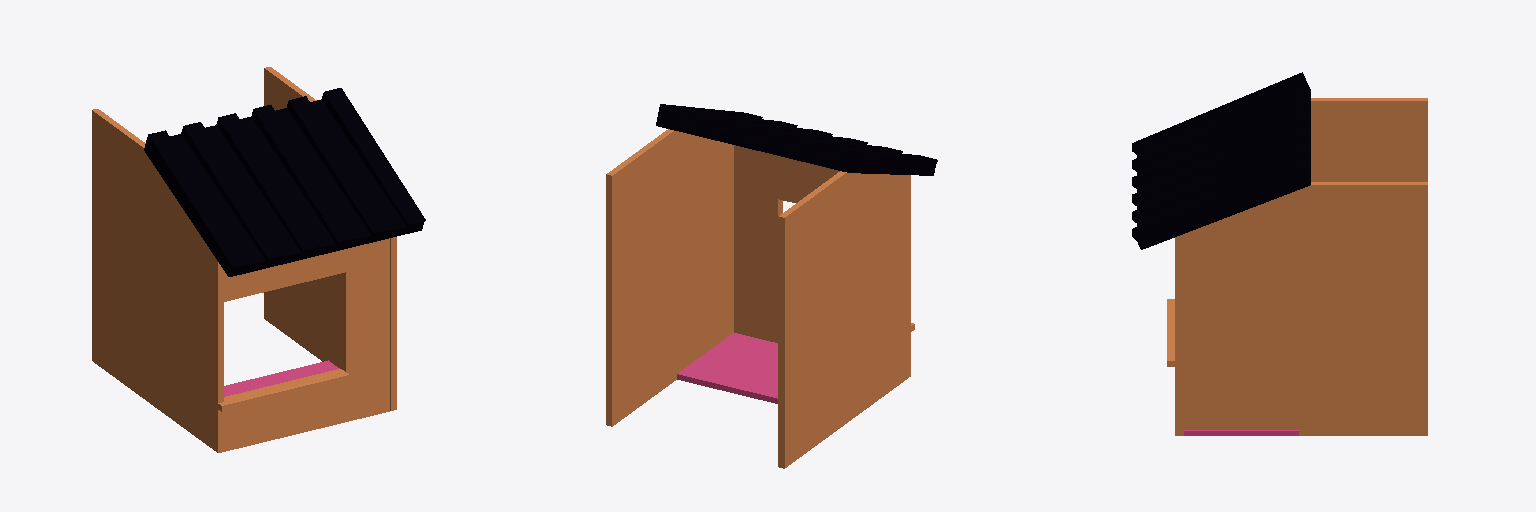
The model's file is house4.obj.
3 renders of one model, left to right at view 1: azimuth 30°, elevation 25°; view 2: azimuth 150°, elevation 25°; view 3: azimuth 270°, elevation 25°, orthographic.
Visible parts, largest first — view 1: Box004, Box003, Box002, Box005, Box001; view 2: Box003, Box005, Box002, Box004, Box001; view 3: Box005, Box004, Box003, Box001, Box002.
Boxes of the visible parts, x1=… form: Box004: x1=144, y1=88, x2=425, y2=276; Box003: x1=92, y1=109, x2=223, y2=452; Box002: x1=213, y1=238, x2=389, y2=452; Box005: x1=264, y1=67, x2=396, y2=410; Box001: x1=224, y1=360, x2=339, y2=396; Box003: x1=778, y1=171, x2=910, y2=468; Box005: x1=606, y1=129, x2=733, y2=426; Box002: x1=734, y1=145, x2=914, y2=379; Box004: x1=656, y1=104, x2=937, y2=175; Box001: x1=677, y1=333, x2=777, y2=403; Box005: x1=1175, y1=182, x2=1427, y2=435; Box004: x1=1132, y1=72, x2=1310, y2=249; Box003: x1=1311, y1=98, x2=1427, y2=181; Box001: x1=1184, y1=430, x2=1298, y2=435; Box002: x1=1167, y1=299, x2=1174, y2=366.
Bounding box in the file's own units: 99.55 × 135 × 132.